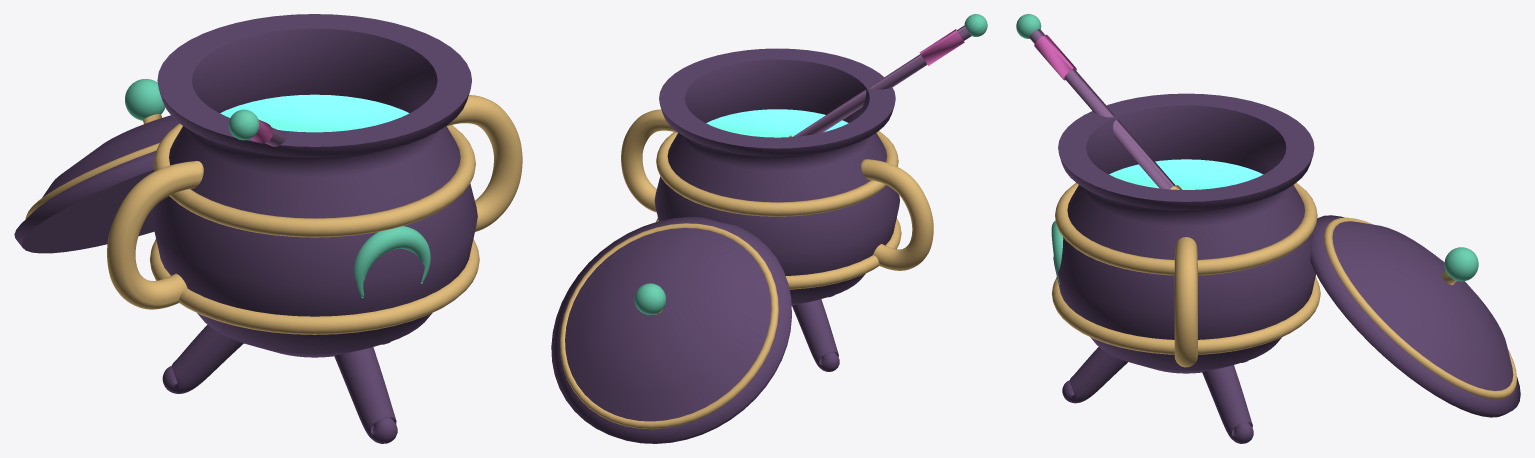
The model's file is a-whimsical-moon-market-potion-cauldron-as-a.glb.
The picture shows the model from 3 angles, left to right: view 1: azimuth 30°, elevation 25°; view 2: azimuth 150°, elevation 25°; view 3: azimuth 270°, elevation 25°; orthographic projection. The views are drawn at different scales.
Parts seen in each view (by area): view 1: CauldronBody, lid, right_handle, left_handle, stirring_paddle; view 2: CauldronBody, lid, right_handle, stirring_paddle, left_handle; view 3: CauldronBody, lid, stirring_paddle, left_handle.
Part boxes in pixels (x1=…): CauldronBody: x1=149, y1=14, x2=479, y2=443; lid: x1=14, y1=79, x2=179, y2=253; right_handle: x1=107, y1=161, x2=203, y2=309; left_handle: x1=447, y1=95, x2=522, y2=231; stirring_paddle: x1=228, y1=109, x2=286, y2=146; CauldronBody: x1=654, y1=48, x2=901, y2=371; lid: x1=551, y1=217, x2=791, y2=443; right_handle: x1=861, y1=159, x2=933, y2=270; stirring_paddle: x1=788, y1=14, x2=987, y2=137; left_handle: x1=621, y1=109, x2=677, y2=212; CauldronBody: x1=1051, y1=93, x2=1320, y2=443; lid: x1=1310, y1=215, x2=1520, y2=417; stirring_paddle: x1=1016, y1=14, x2=1182, y2=189; left_handle: x1=1174, y1=237, x2=1197, y2=367.
Size of the model in its own units: 1.54 by 1.4 by 2.
